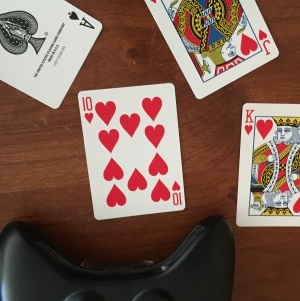card: (77, 82, 185, 219)
